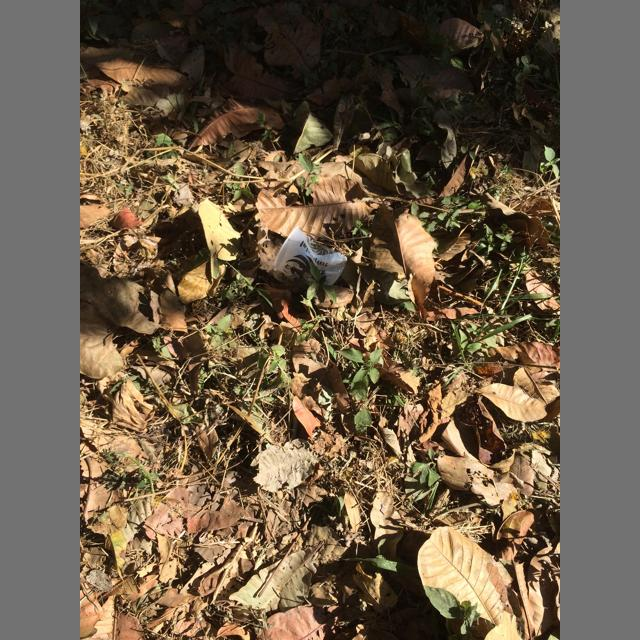litter: (274, 225, 347, 285)
